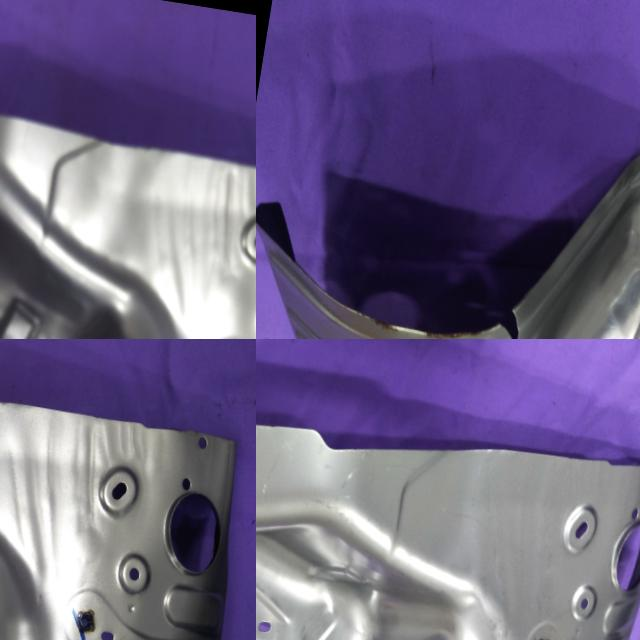Defect: (477, 282, 542, 339)
Healthy: (256, 369, 640, 640), (0, 339, 256, 640), (0, 71, 256, 339)
